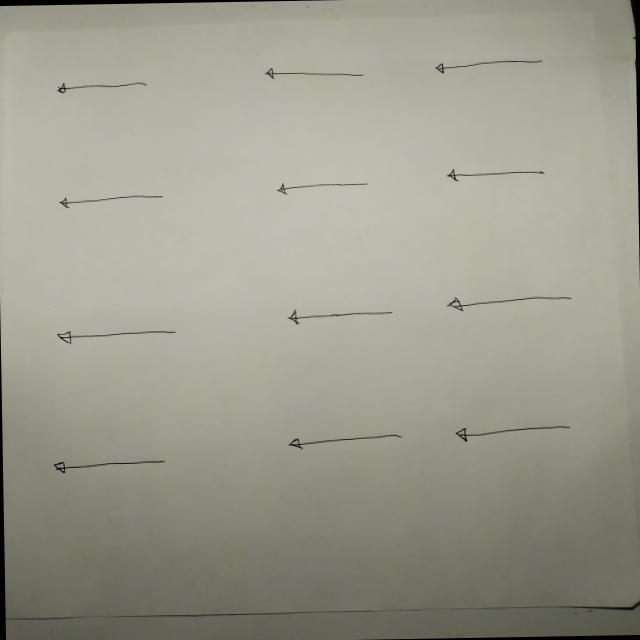arrow_line_left: (38, 448, 185, 482), (274, 426, 424, 458), (450, 416, 590, 449), (44, 70, 172, 106), (43, 322, 194, 349), (268, 301, 408, 330), (252, 58, 374, 89), (440, 290, 582, 316), (419, 53, 557, 78), (431, 162, 560, 188), (46, 188, 179, 212), (264, 176, 380, 203)
